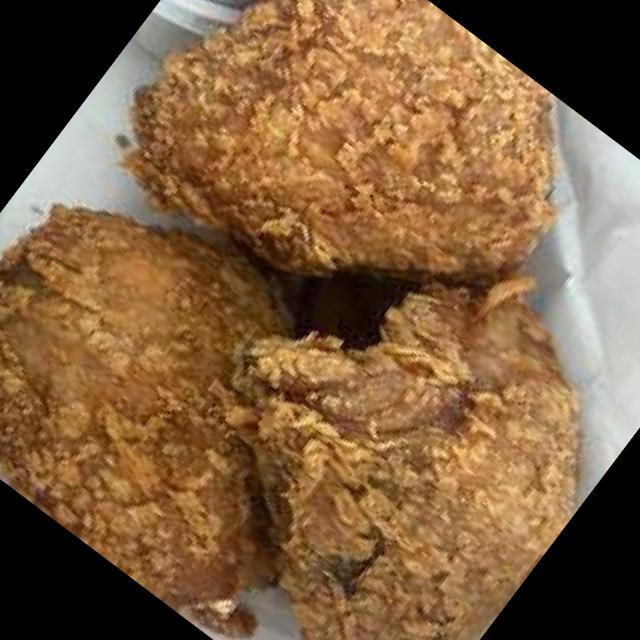Fried Chicken: (0, 0, 583, 640)
